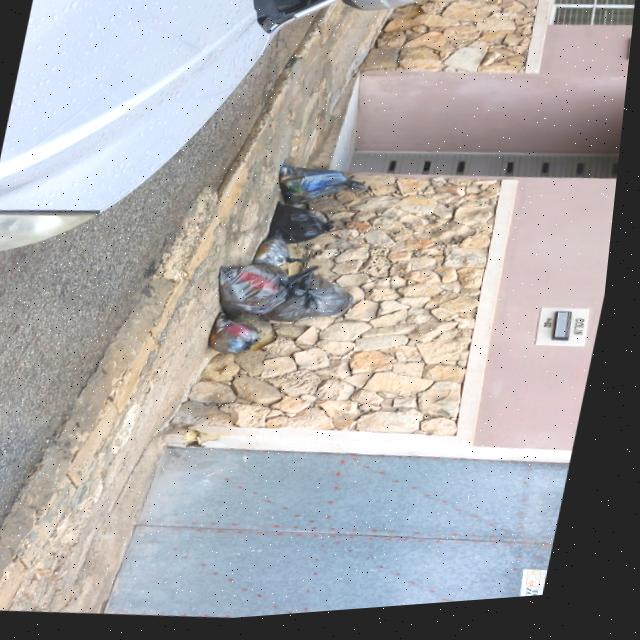Mixed Waste -Black Bag-: (211, 259, 330, 333), (273, 270, 367, 339), (274, 162, 378, 220), (270, 205, 348, 255), (209, 314, 275, 367), (254, 235, 318, 276)
